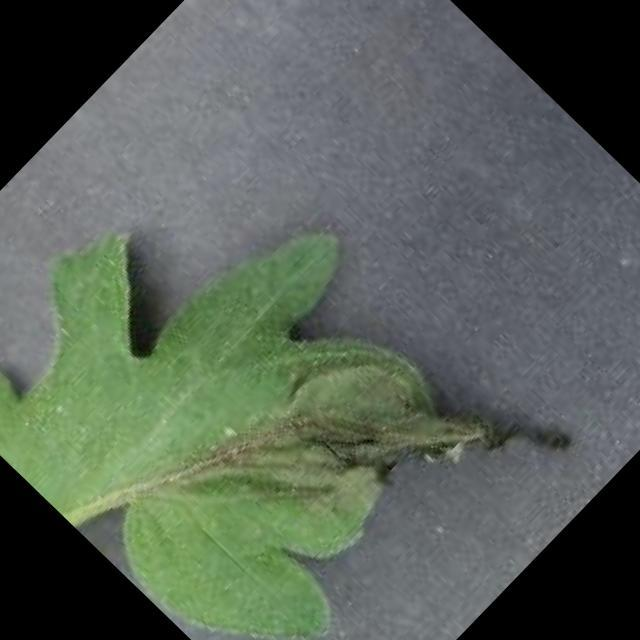Tomato late blight leaf: (0, 95, 575, 640)
